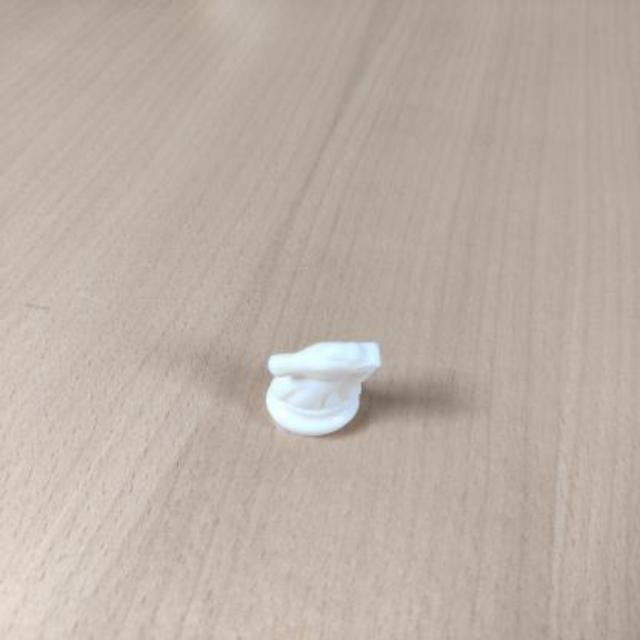white-knight: (267, 340, 382, 435)
